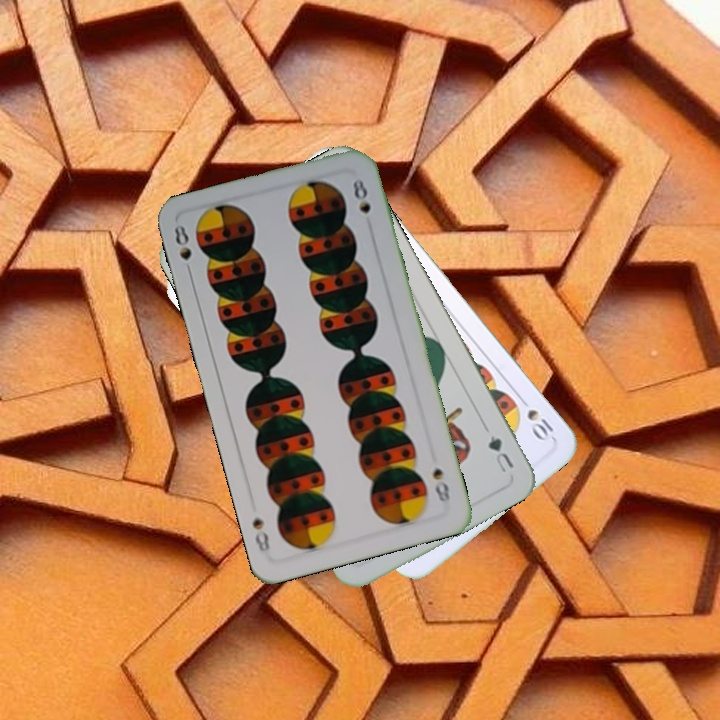GU: (484, 431, 517, 476)
S10: (514, 392, 556, 444)
S8: (170, 220, 195, 279), (428, 463, 453, 506)
